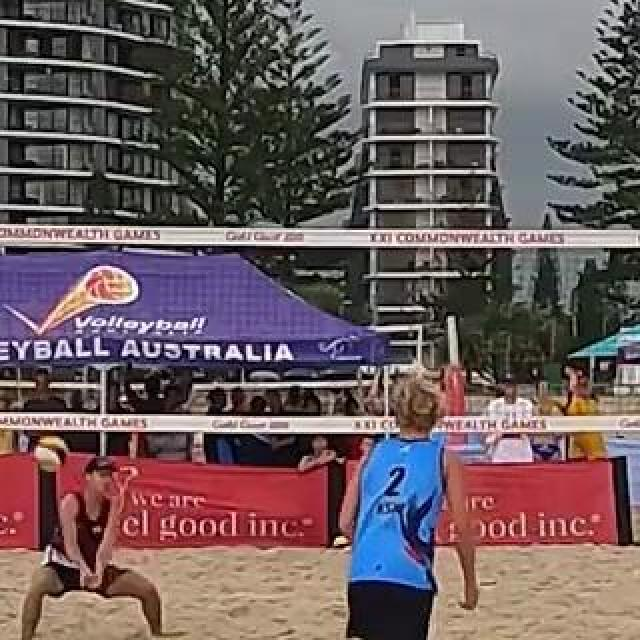volleyball: (34, 435, 70, 473), (333, 534, 351, 554)
